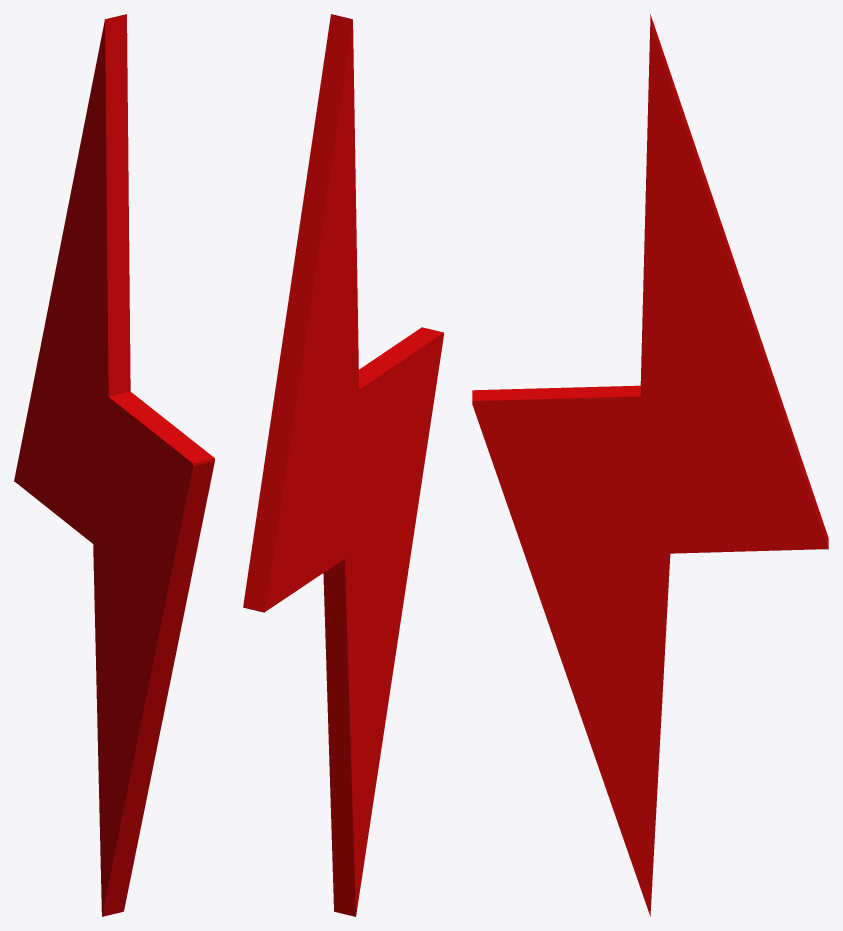
File: lentitud.fbx
3 views of the same model, side by side, from view 1: azimuth 30°, elevation 25°; view 2: azimuth 150°, elevation 25°; view 3: azimuth 270°, elevation 25° (orthographic).
Parts seen in each view (by area): view 1: Cube; view 2: Cube; view 3: Cube.
Part boxes in pixels (left/top/right/bottom): Cube: left=14, top=14, right=214, bottom=916; Cube: left=243, top=14, right=443, bottom=916; Cube: left=472, top=14, right=828, bottom=916.
Bounding box in the file's own units: 16.16 × 553 × 200.
